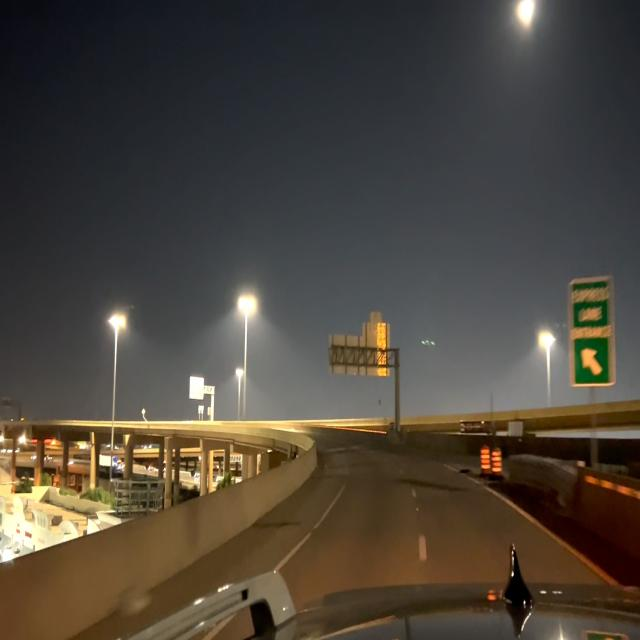back-of-sign: (331, 331, 390, 378), (362, 313, 389, 333)
